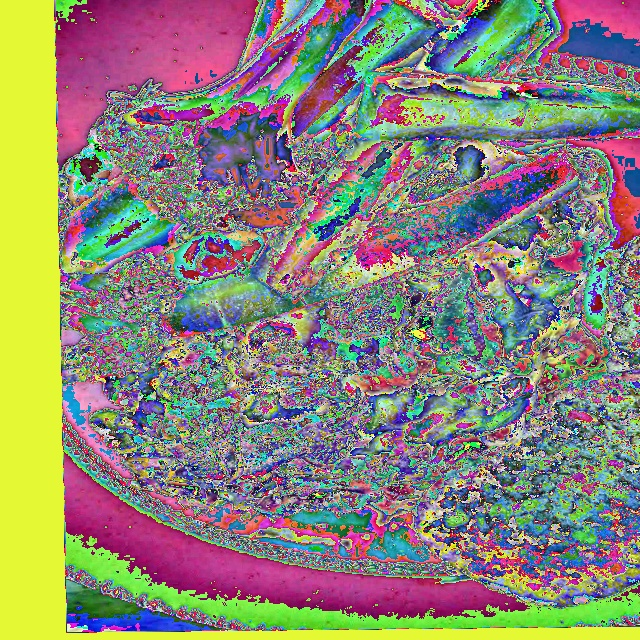background: (60, 0, 639, 610)
